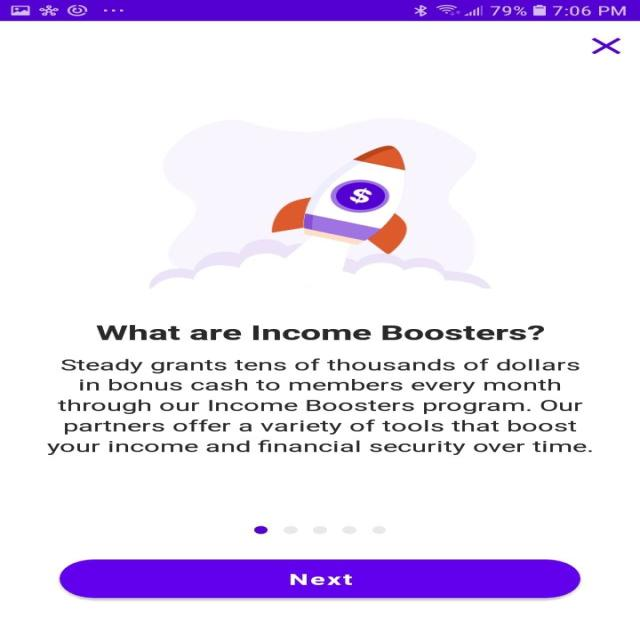Icon: (590, 37, 620, 54)
Image: (149, 118, 492, 288)
Text: (46, 358, 592, 456), (95, 324, 544, 341)
TextButton: (58, 558, 580, 598)
